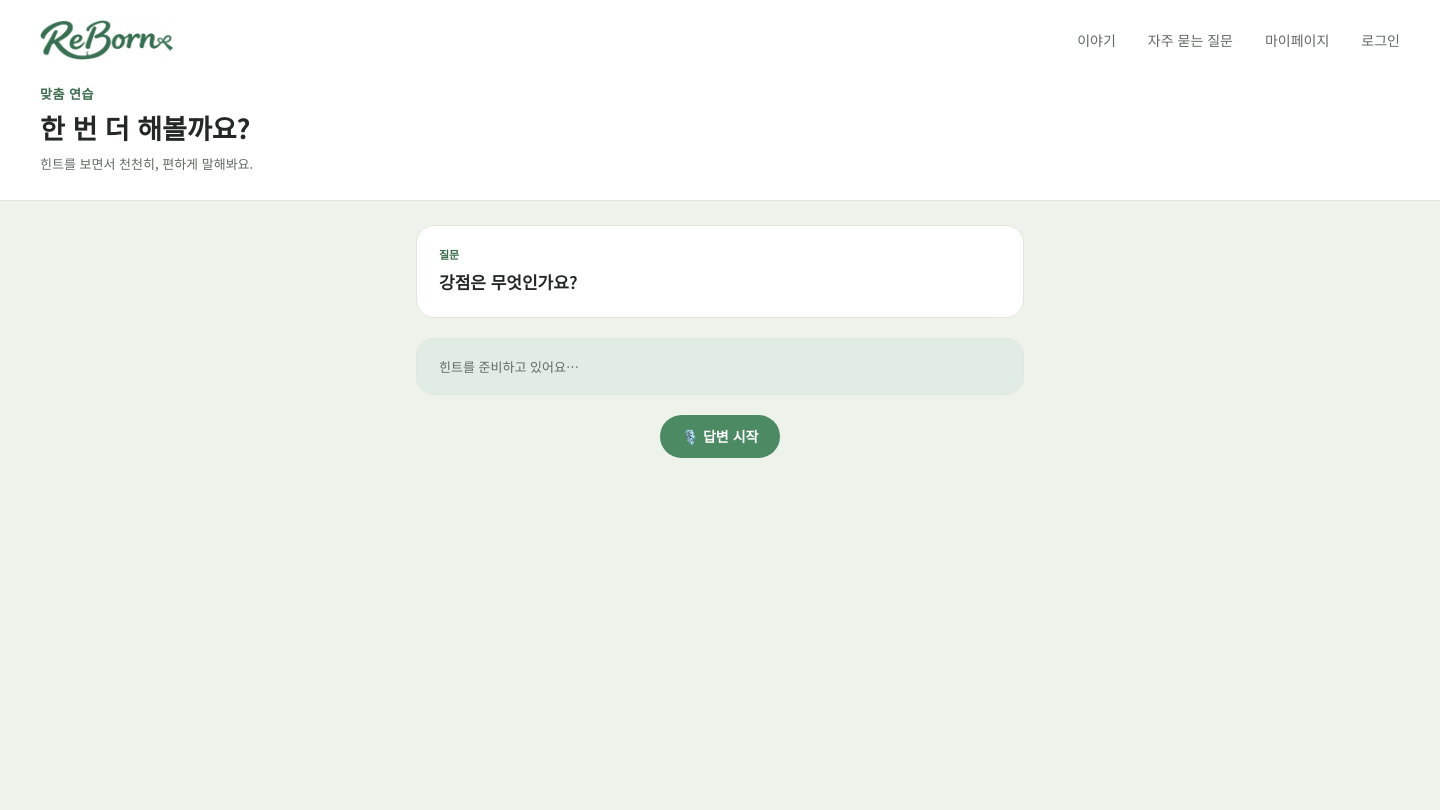
it: PracticePage › 말로 답하기 (음성 인식 가능) › 답변 시작 → 답변 끝 → 말한 내용이 적힌 상태로 확인 → 제출
The image size is (1440, 810).
Click the button "🎙️ 답변 시작". click: (720, 437)
box: [660,415,780,458]
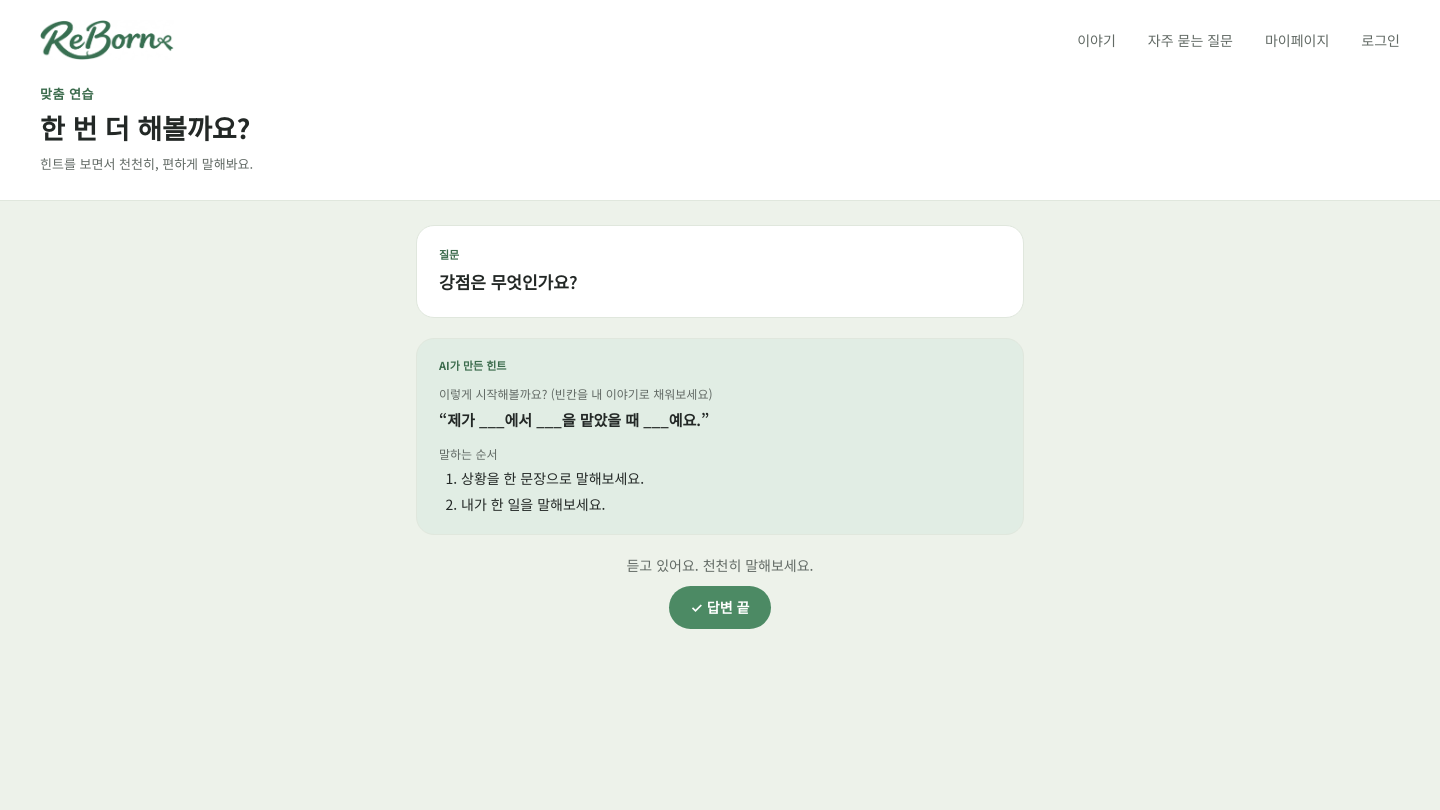
Click the button "✓ 답변 끝". click: (720, 607)
box: [669,586,771,629]
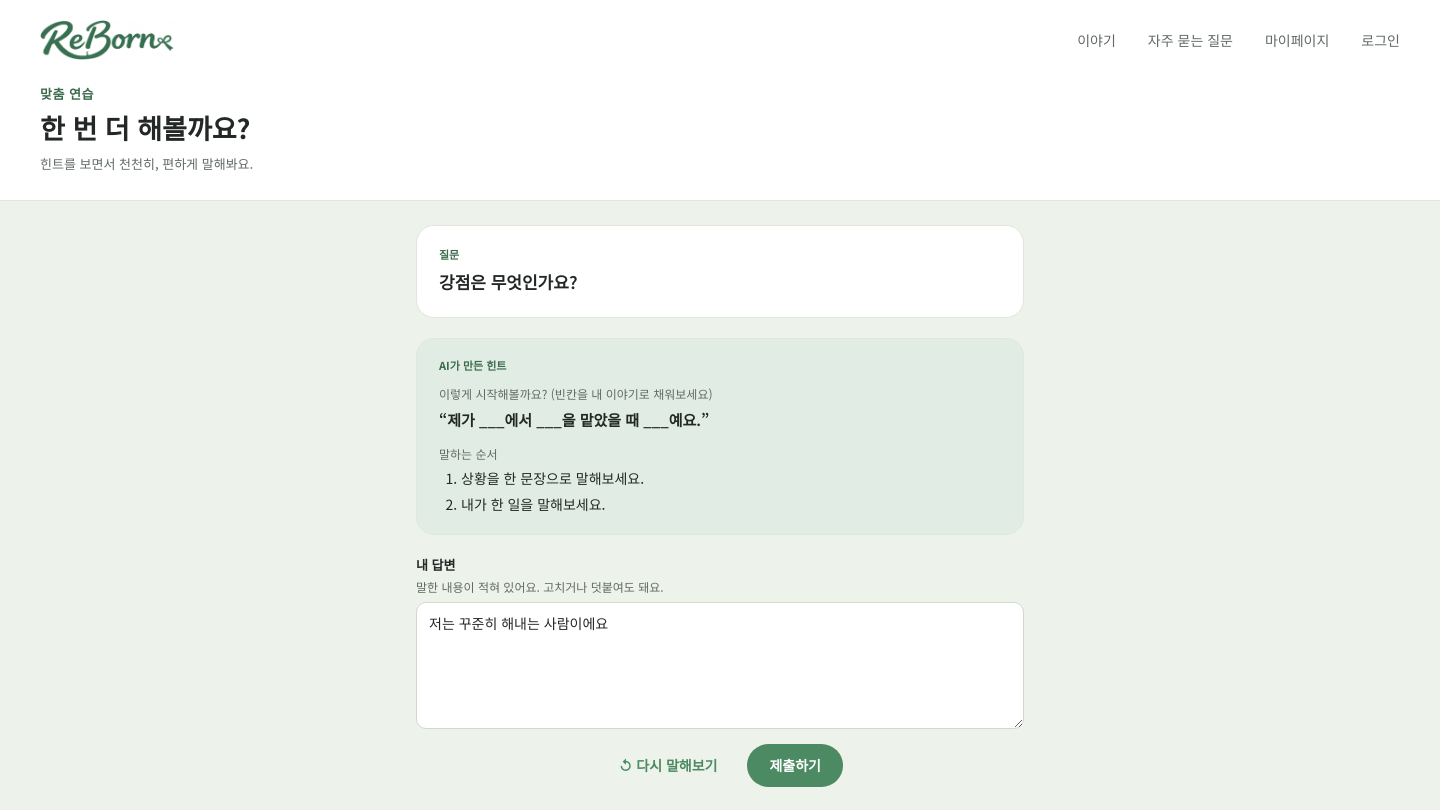
Check: the text box labelled "내 답변" holds "저는 꾸준히 해내는 사람이에요", box [416,602,1024,729]
Click the button "제출하기". click: (795, 766)
box: [748,744,843,787]
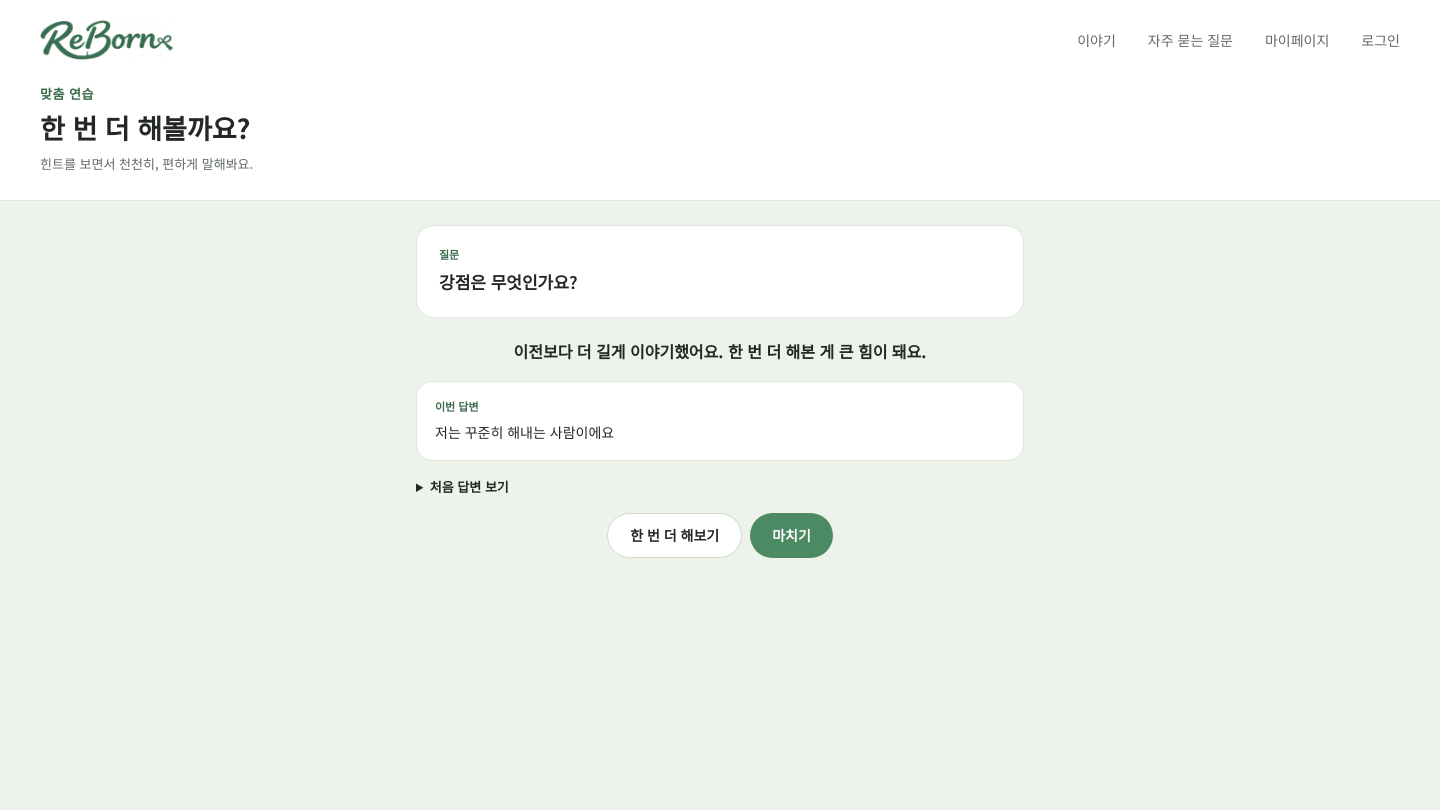
Check: the text "저는 꾸준히 해내는 사람이에요" is shown, box [435,422,614,442]
